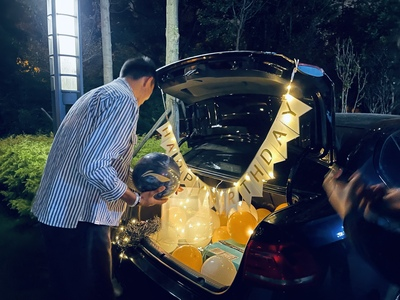ball: (132, 152, 181, 199)
